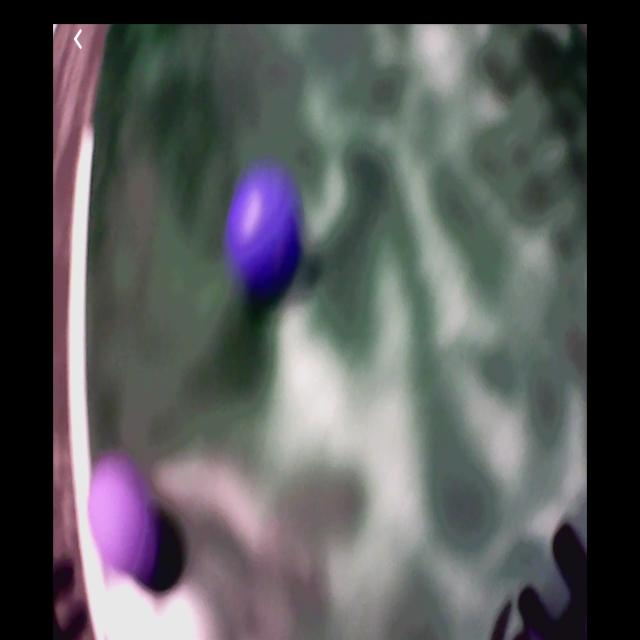ball: (228, 173, 303, 294), (89, 456, 152, 578)
